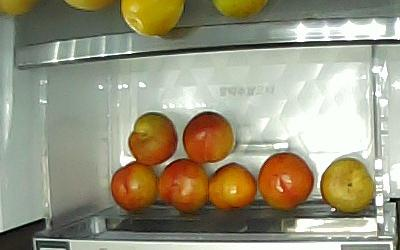prune: (255, 150, 314, 210), (319, 156, 375, 213), (155, 157, 209, 213), (181, 110, 234, 165), (127, 110, 178, 165), (109, 159, 159, 212), (206, 160, 257, 211)
